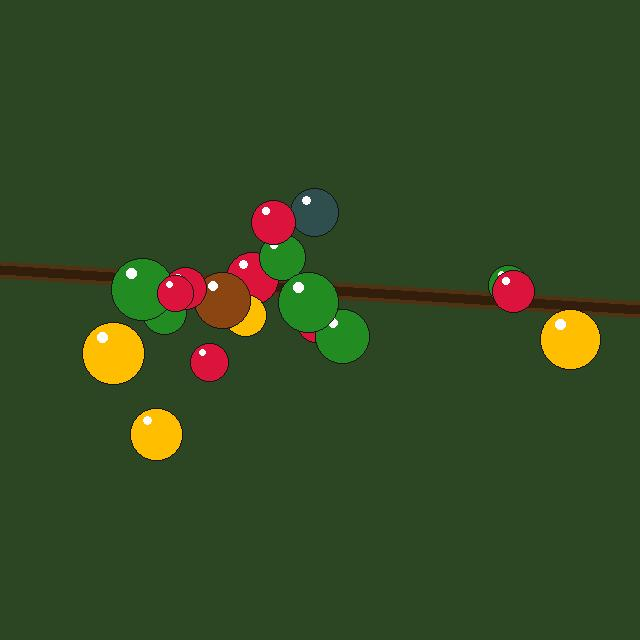Dry_Damaged: (290, 188, 338, 236)
Overripe: (194, 272, 250, 328)
Ripe: (226, 252, 278, 304), (251, 200, 295, 244), (492, 270, 534, 312), (164, 267, 206, 309), (190, 343, 228, 381), (297, 304, 335, 342), (157, 275, 193, 311)
Ripening: (82, 322, 144, 384), (540, 309, 600, 369), (130, 408, 182, 460), (224, 294, 266, 336)
Unripe: (111, 258, 173, 320), (278, 272, 338, 332), (315, 309, 369, 363), (259, 234, 305, 280), (142, 290, 186, 334), (488, 265, 528, 305)
